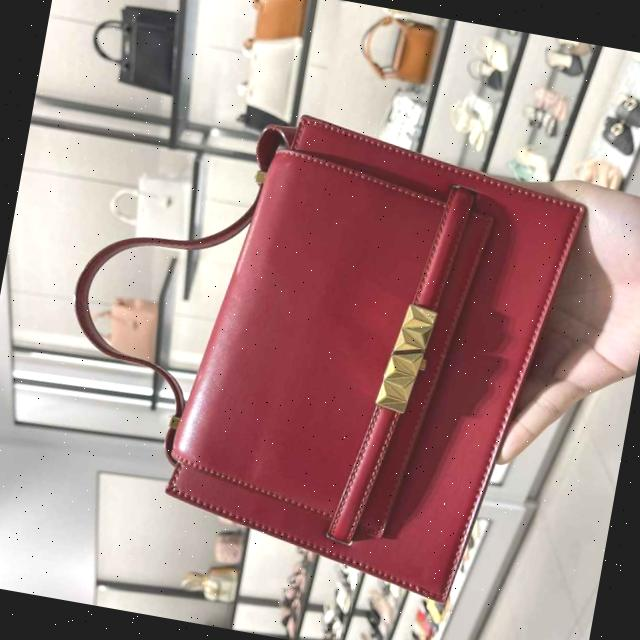handbag: (92, 55, 608, 606)
